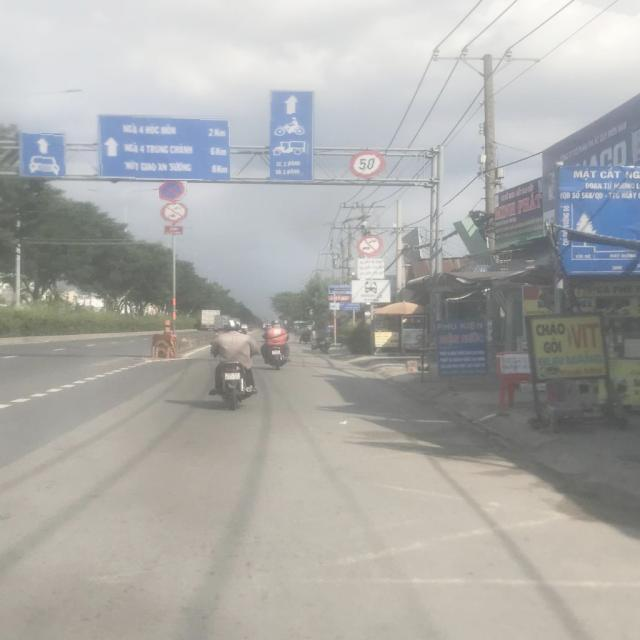107-cam-oto-khach-va-oto-tai: (357, 236, 384, 257)
127-toc-do-toi-da-50: (350, 148, 383, 180)
130-cam-dung-va-do-xe: (158, 182, 185, 201)
